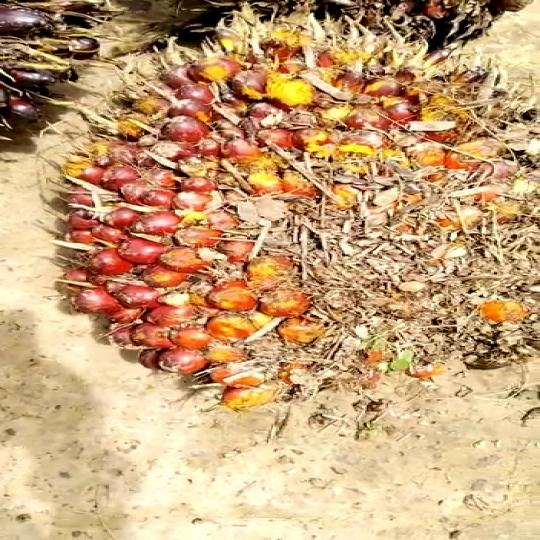masak: (56, 9, 540, 413)
